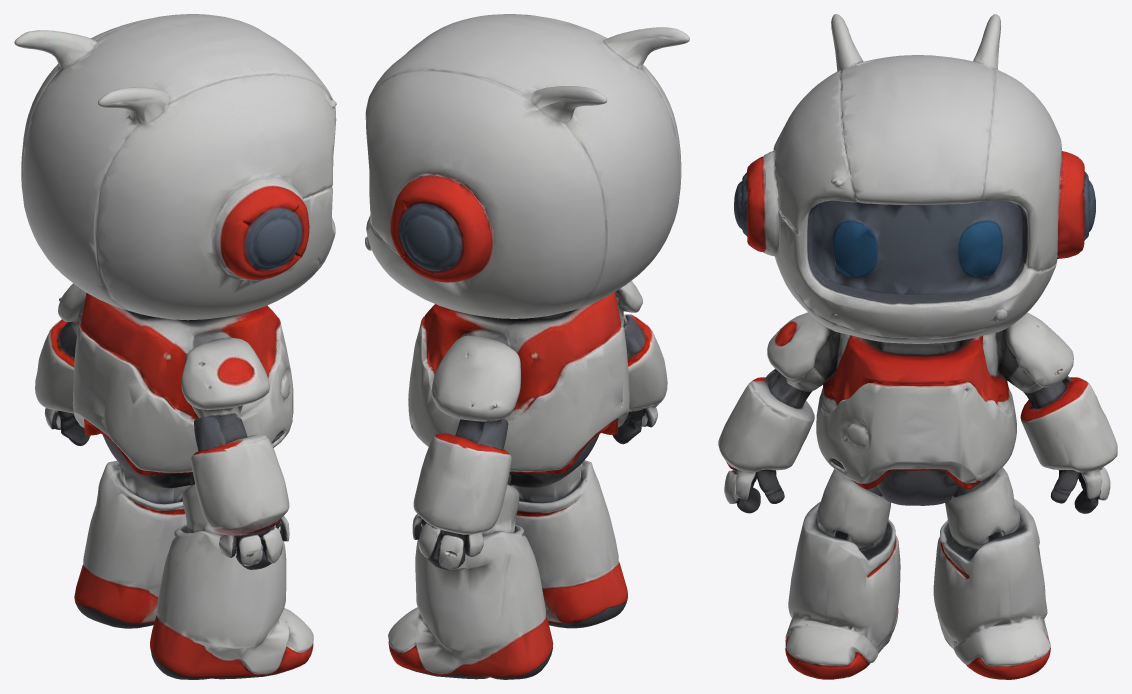
The picture shows the model from 3 angles, left to right: view 1: azimuth 30°, elevation 25°; view 2: azimuth 150°, elevation 25°; view 3: azimuth 270°, elevation 25°; orthographic projection. The views are drawn at different scales.
Parts seen in each view (by area): view 1: tripo_node_bf932f9a-6280-412c-9116-210f6a713b65; view 2: tripo_node_bf932f9a-6280-412c-9116-210f6a713b65; view 3: tripo_node_bf932f9a-6280-412c-9116-210f6a713b65.
Part boxes in pixels (left/top/right/bottom): tripo_node_bf932f9a-6280-412c-9116-210f6a713b65: left=14, top=14, right=336, bottom=679; tripo_node_bf932f9a-6280-412c-9116-210f6a713b65: left=365, top=14, right=689, bottom=679; tripo_node_bf932f9a-6280-412c-9116-210f6a713b65: left=718, top=14, right=1117, bottom=679.
Size of the model in its own units: 0.0908 by 0.1999 by 0.1247.
1 material, 1 textured.
